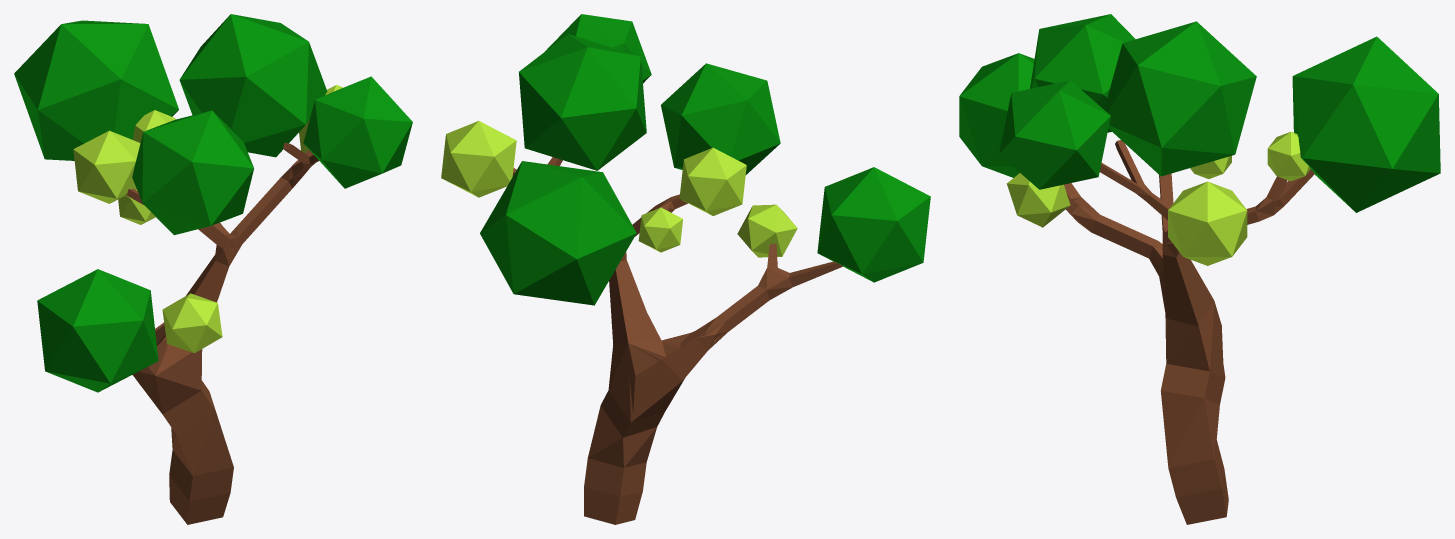
The model's file is Tree1.3.fbx.
3 views of the same model, side by side, from view 1: azimuth 30°, elevation 25°; view 2: azimuth 150°, elevation 25°; view 3: azimuth 270°, elevation 25° (orthographic). The views are drawn at different scales.
Parts seen in each view (by area): view 1: Trunck Tree1.3; view 2: Trunck Tree1.3; view 3: Trunck Tree1.3.
Boxes of the visible parts, box(x1,y1,x2,y2) form: Trunck Tree1.3: box(14, 14, 412, 524); Trunck Tree1.3: box(441, 14, 930, 524); Trunck Tree1.3: box(959, 14, 1440, 524).
Bounding box in the file's own units: 1193 × 1353 × 1158.
